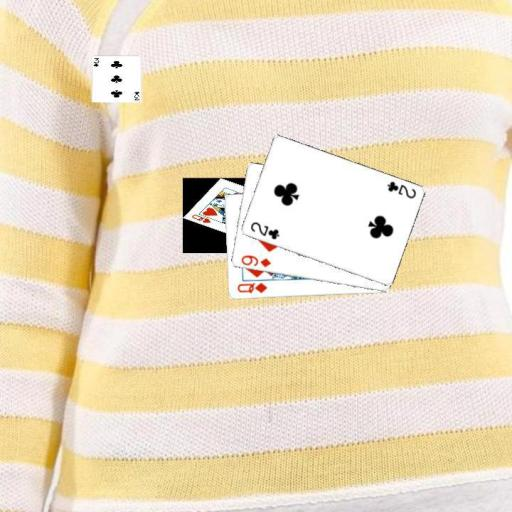2C: (247, 219, 281, 241), (384, 178, 417, 200)
9D: (238, 252, 273, 269)
QD: (234, 280, 269, 295)
